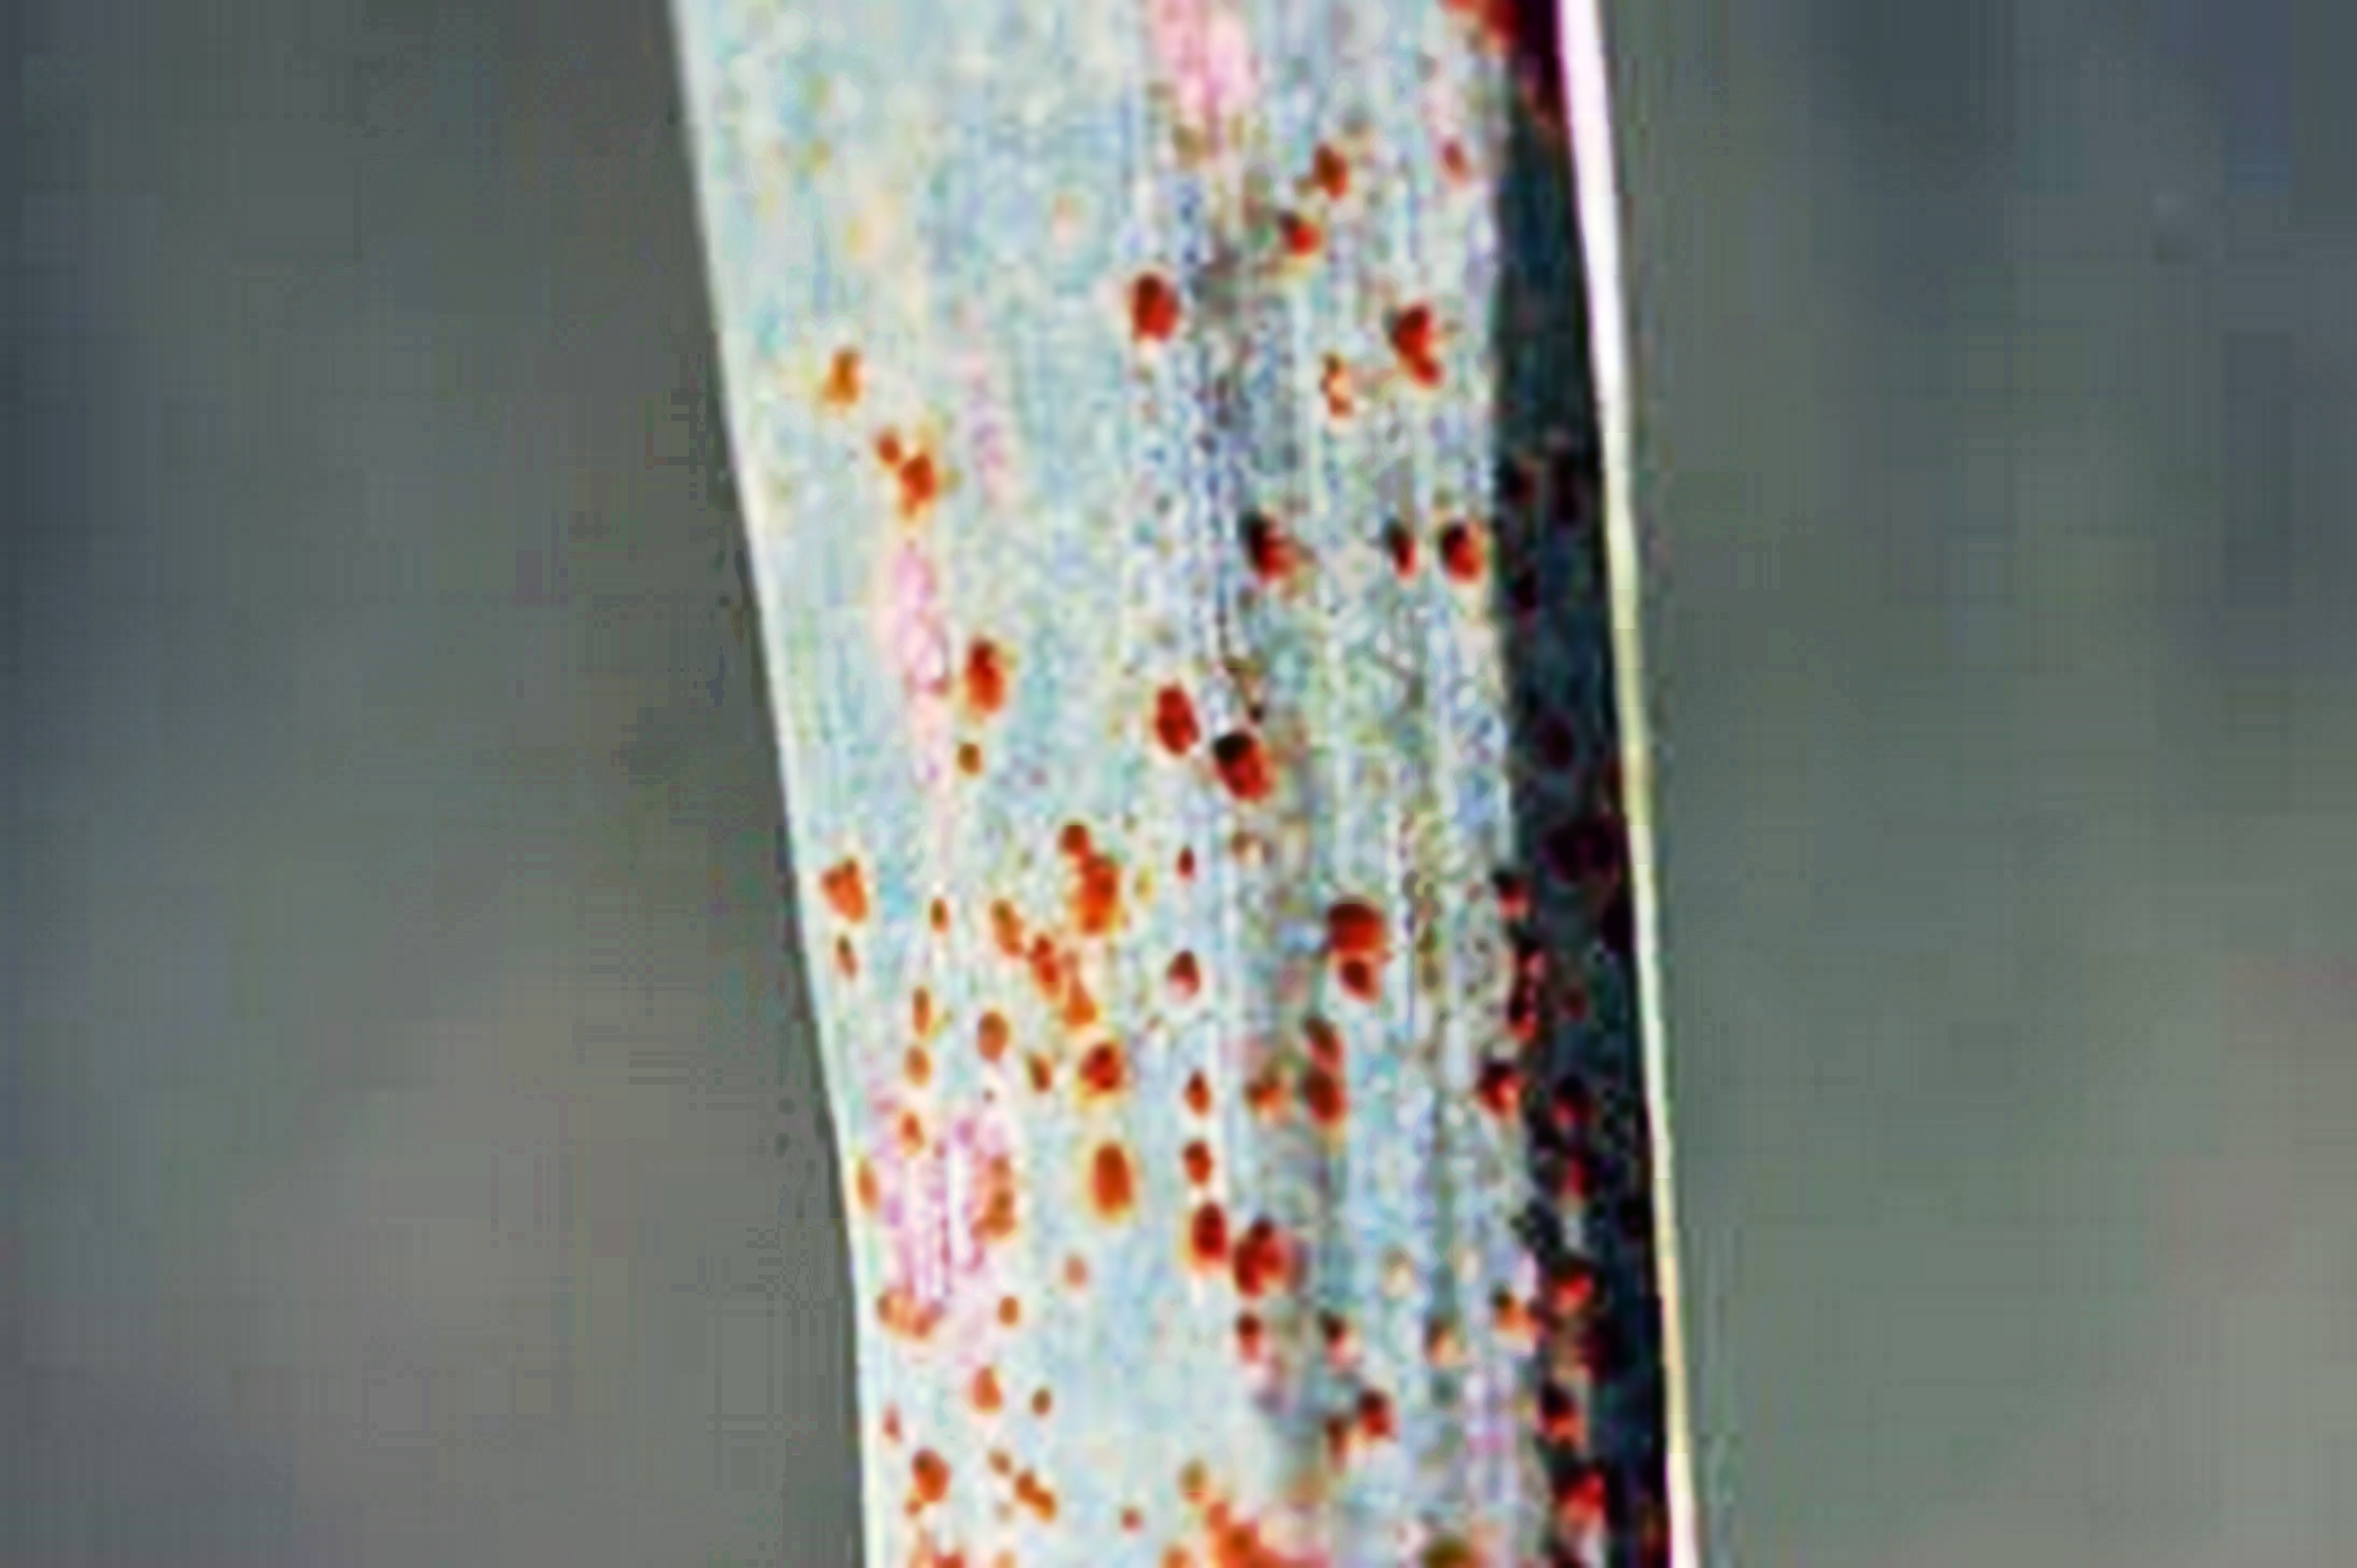Leaf Rust: (780, 292, 1664, 1510)
